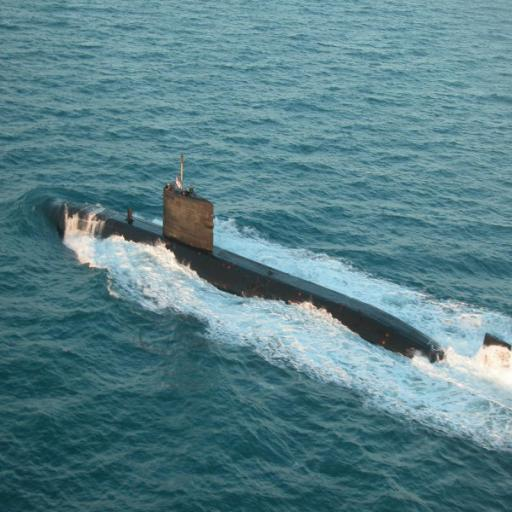submarine: (60, 188, 446, 363)
